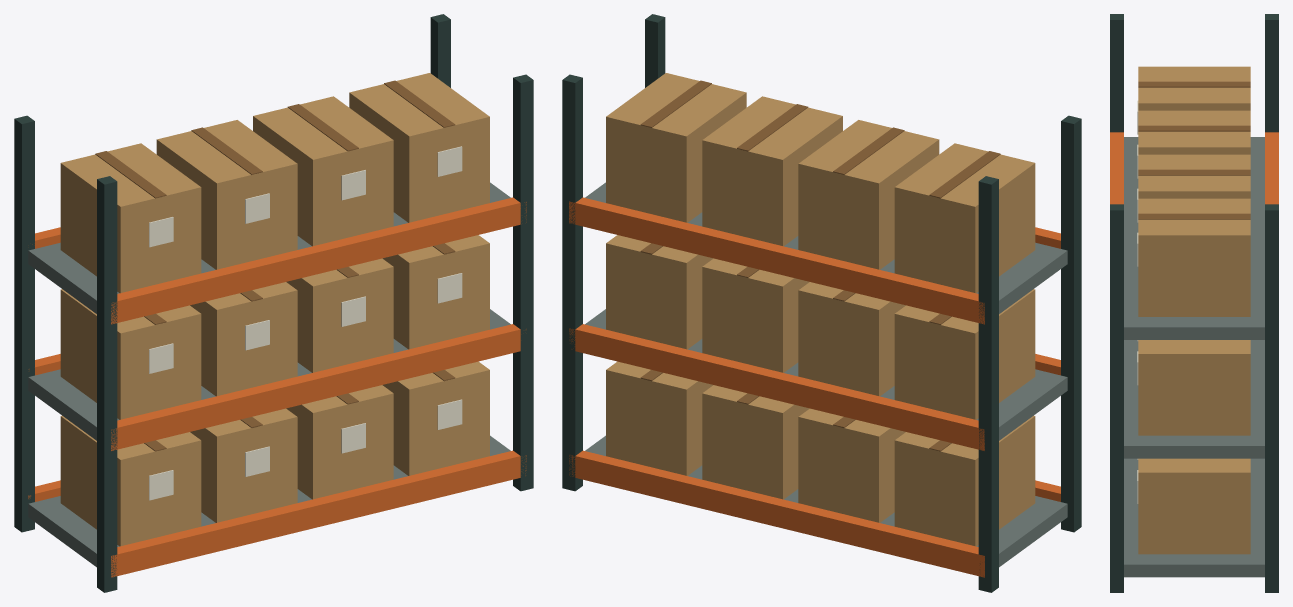
Rendered from WarehouseRack.obj.
3 views of the same model, side by side, from view 1: azimuth 30°, elevation 25°; view 2: azimuth 150°, elevation 25°; view 3: azimuth 270°, elevation 25° (orthographic). The views are drawn at different scales.
Parts seen in each view (by area): view 1: WarehouseRack; view 2: WarehouseRack; view 3: WarehouseRack.
Part boxes in pixels (<box>): WarehouseRack: <box>14,14,533,592</box>; WarehouseRack: <box>562,14,1081,592</box>; WarehouseRack: <box>1110,14,1278,592</box>.
Size of the model in its own units: 3.3 by 3 by 1.2.
